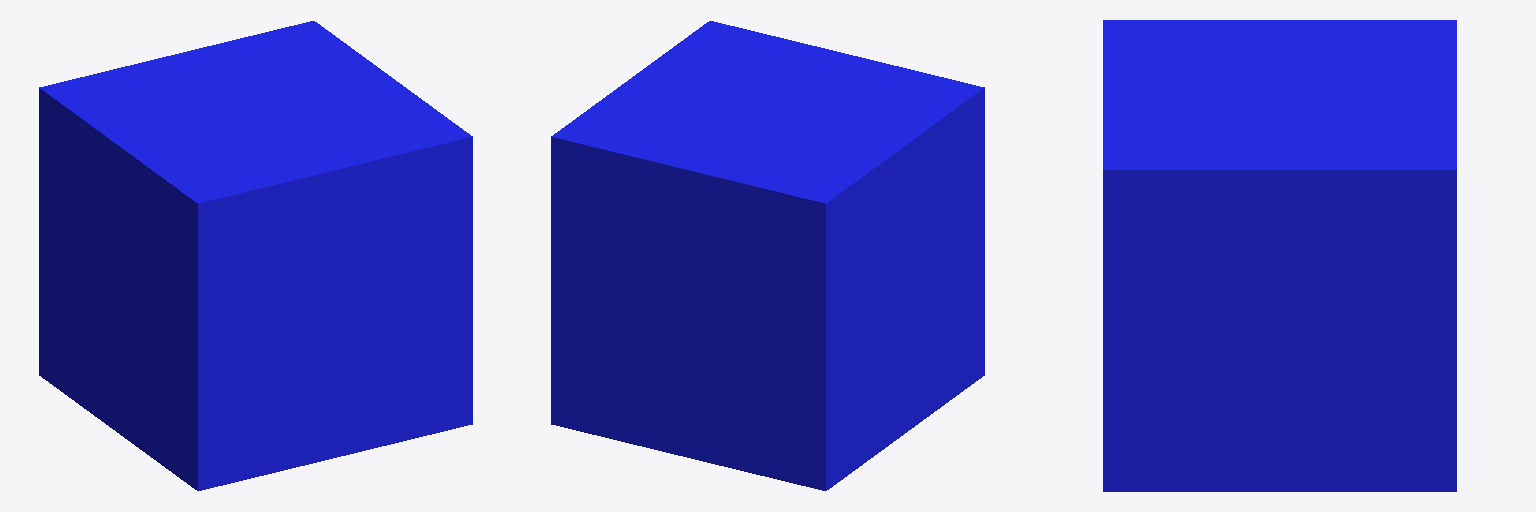
robot.urdf — random_box:
<?xml version='1.0' encoding='UTF-8'?>
<robot name="random_box">
  <link name="box">

    <inertial>
      <mass value="0.3"/>
      <origin xyz="0 0 0" rpy="0 0 0"/>
      <inertia ixx="0.1" ixy="0.1" ixz="0.1" iyy="0.1" iyz="0.1" izz="0.1"/>
    </inertial>

    <visual>
      <geometry>
<!--        <box size="0.05 0.05 0.15"/>-->
<!--        <box size="0.06 0.06 0.15"/>-->
        <box size="0.05 0.05 0.05"/>
<!--        <cylinder length="0.05" radius="0.025"/>-->
      </geometry>
      <material name="color">
        <color rgba="0.16477837118630845 0.19369986938615202 0.9964930851407763 1"/>
<!--        <color rgba="0.9 0.0 0.9 1"/>-->
<!--        <color rgba="0. 0. 0. 1"/>-->
<!--        <color rgba="0.9 0. 0.1 1"/>-->
<!--        <color rgba="0.1 0.9 0.9 1"/>-->
      </material>
    </visual>
    <collision>
      <geometry>
<!--        <box size="0.05 0.05 0.15"/>-->
<!--        <box size="0.06 0.06 0.15"/>-->
        <box size="0.05 0.05 0.05"/>
<!--        <cylinder length="0.05" radius="0.025"/>-->
      </geometry>

      <surface>
        <friction>
          <ode>
            <mu>100000000.0</mu>
            <mu2>100000000.0</mu2>
          </ode>
        </friction>
        <contact>
          <ode>
            <min_depth>0.003</min_depth>
          </ode>
        </contact>
      </surface>

    </collision>

  </link>
</robot>

--- Render facts (derived) ---
Views: 3 orthographic renders of the robot side by side, from view 1: azimuth 30°, elevation 25°; view 2: azimuth 150°, elevation 25°; view 3: azimuth 270°, elevation 25°.
Robot: random_box — 1 links, 0 joints (none); root link box; default pose: every joint at zero.
Visible links, largest first — view 1: box; view 2: box; view 3: box.
Link boxes in pixels (left/top/right/bottom): box: left=39, top=21, right=472, bottom=490; box: left=551, top=21, right=984, bottom=490; box: left=1103, top=20, right=1456, bottom=491.
Size in the robot's own frame: 0.05 by 0.05 by 0.05 metres.
Geometry: primitives only (box / cylinder / sphere), no mesh files.